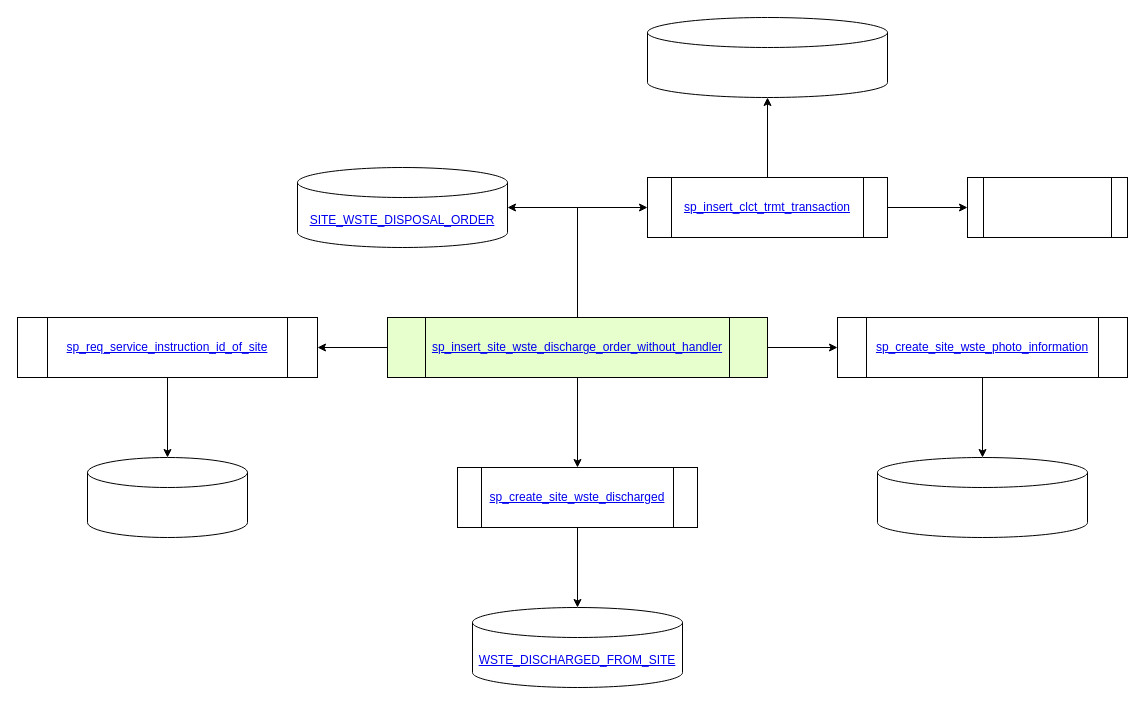
Some shapes in this 1145 by 705 pixel diagram are drawn without their labels. Here are the shapes that lost their labels. From the top down, the centre of each, then its label:
pixel 767 57: WSTE_CLCT_TRMT_TRANSACTION
pixel 1047 207: sp_req_current_time
pixel 167 497: SITE_WORK_ORDER
pixel 982 497: WSTE_REGISTRATION_PHOTO
